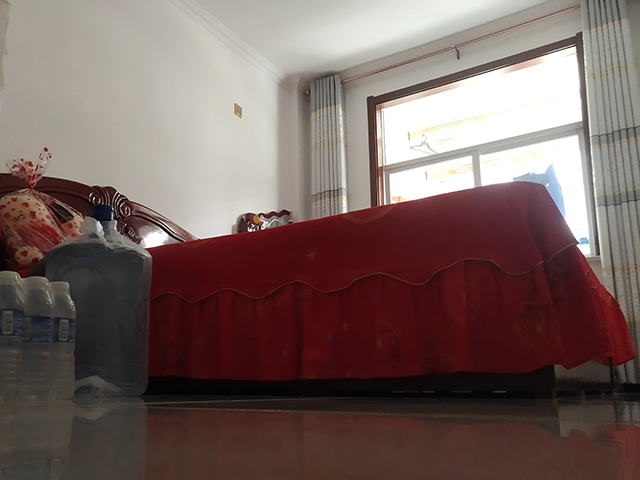bed: (1, 171, 639, 400)
curtain: (580, 1, 640, 384), (300, 70, 347, 218)
